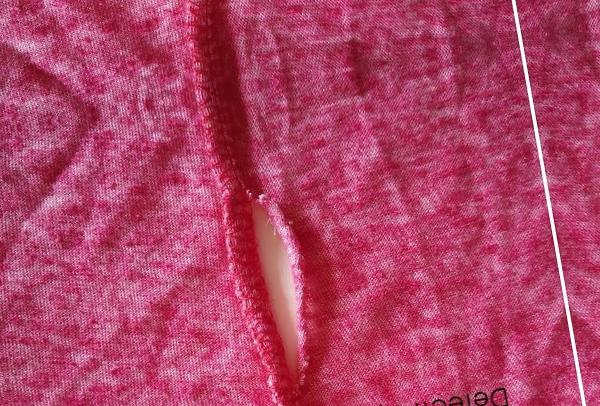hole: (233, 183, 316, 393)
